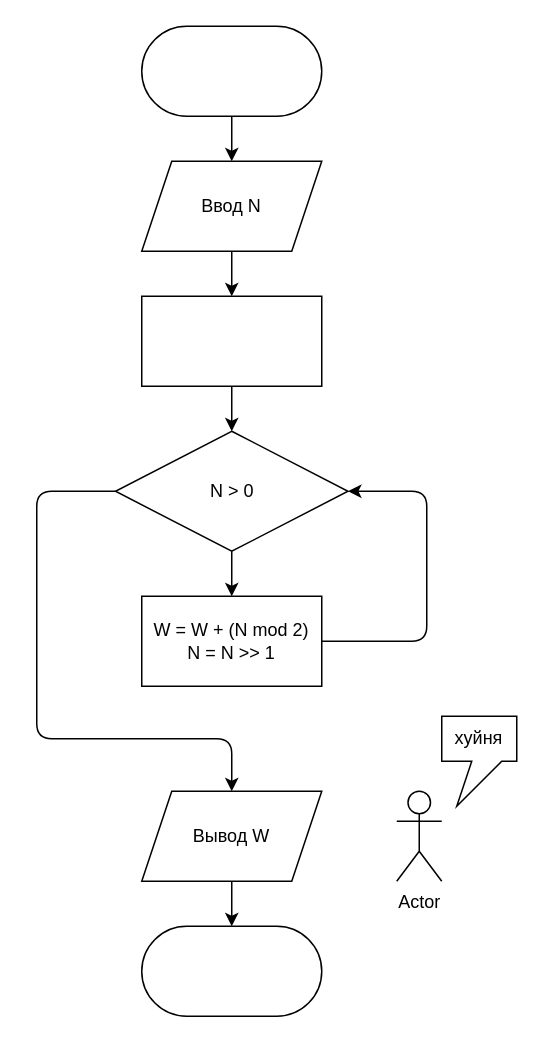
Some shapes in this 543 by 1043 pixel diagram are drawn without their labels. Each missing label, with the centre of its shape:
"W = 0" goes at (231,340).
"Конец" goes at (231,970).
"Начало" goes at (231,70).
